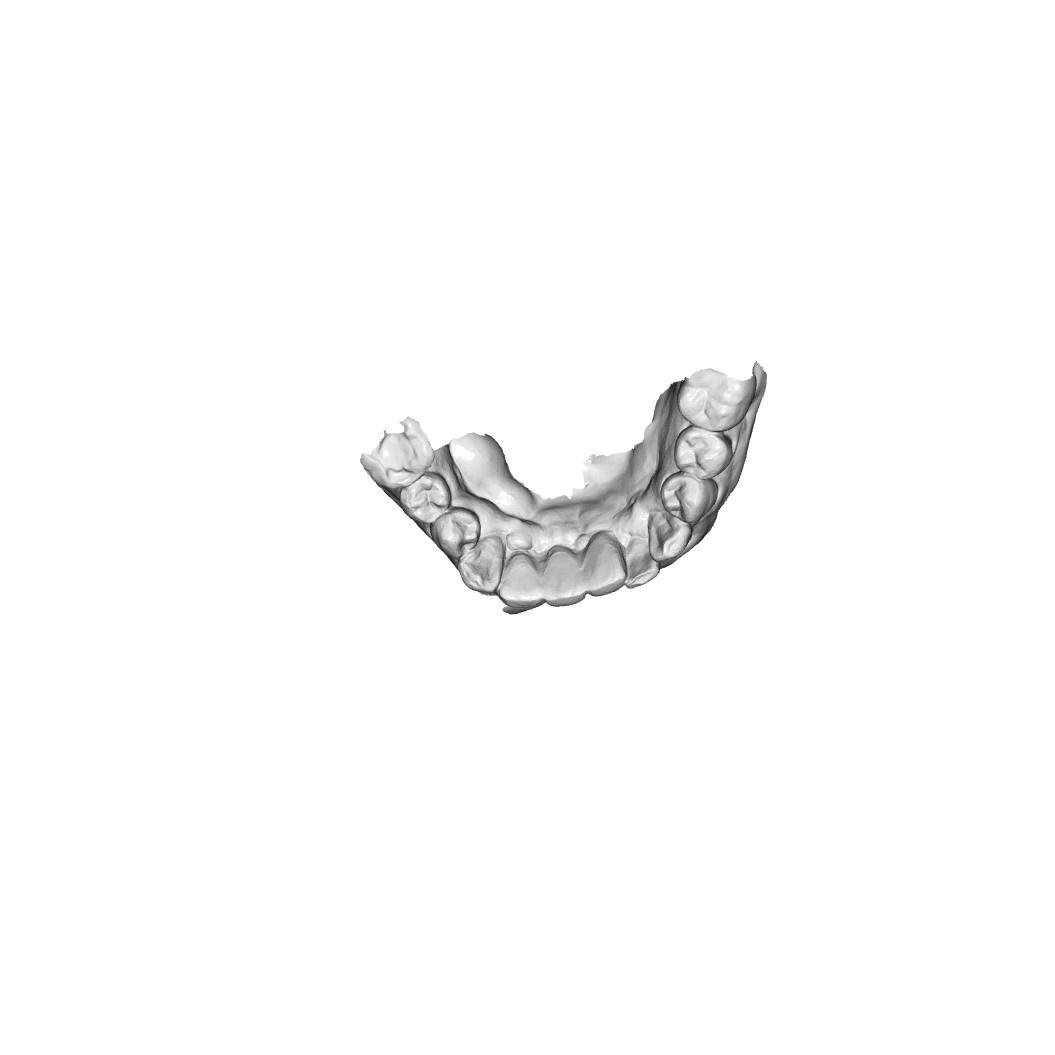canine: (455, 541, 505, 597), (646, 509, 691, 566)
incisor: (583, 538, 630, 599), (542, 549, 588, 609), (497, 556, 544, 609), (623, 540, 664, 590)
molar: (361, 420, 434, 492), (674, 370, 753, 434)
premolar: (671, 425, 733, 482), (660, 472, 718, 526), (399, 470, 452, 524), (432, 505, 479, 557)
